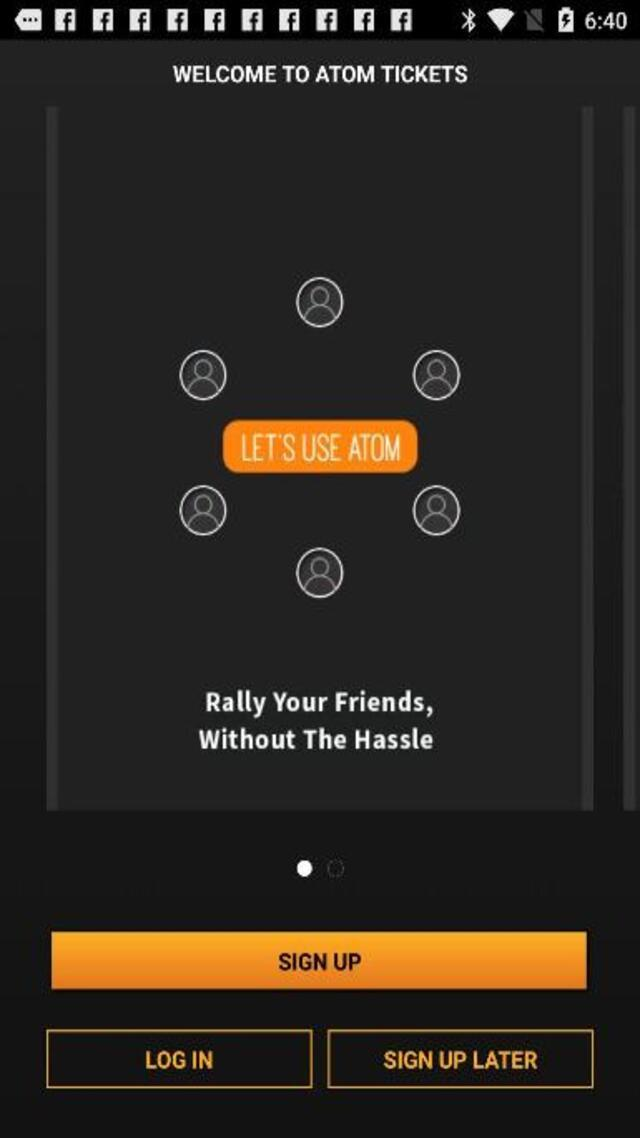Image: (178, 276, 460, 598)
Text: (199, 690, 436, 720), (196, 725, 436, 754), (172, 66, 466, 84), (240, 432, 403, 464), (378, 1046, 542, 1072), (274, 950, 361, 975), (140, 1048, 218, 1073)
TextButton: (51, 932, 586, 988), (46, 1028, 312, 1088), (328, 1028, 594, 1088), (221, 419, 420, 475)
